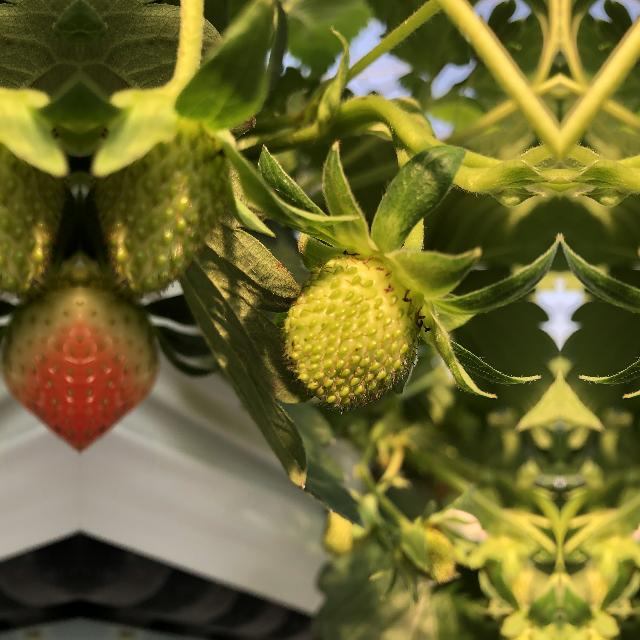Health_25: (279, 245, 435, 420), (83, 127, 233, 300), (0, 127, 77, 300)
Health_75: (80, 275, 164, 457), (0, 275, 80, 457)
